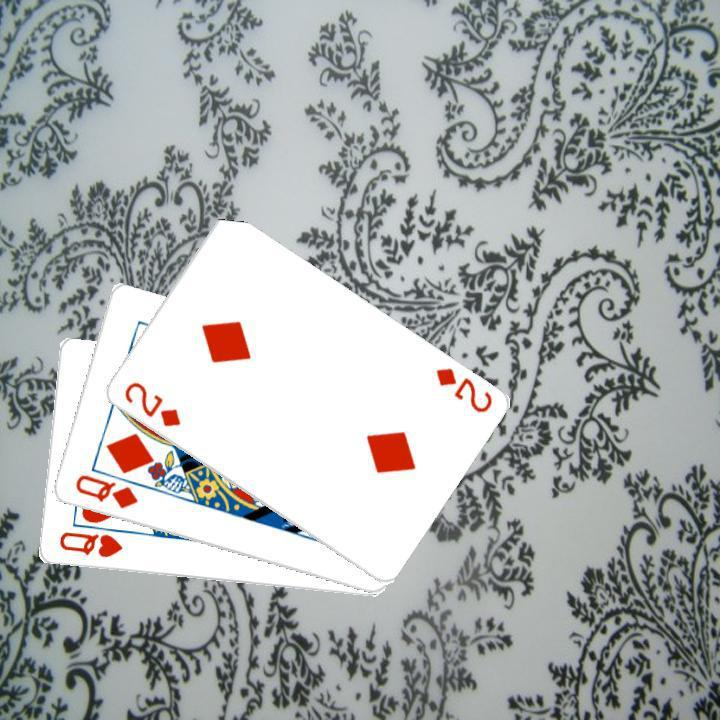2: (430, 363, 494, 415), (119, 377, 182, 429)
Q: (70, 470, 140, 511), (54, 528, 124, 560)
